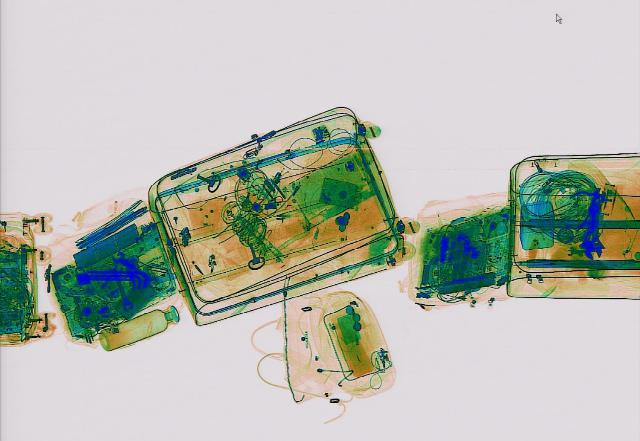Pliers: (551, 180, 619, 223)
Wrench: (102, 260, 136, 310), (576, 220, 606, 259), (106, 249, 144, 273)
